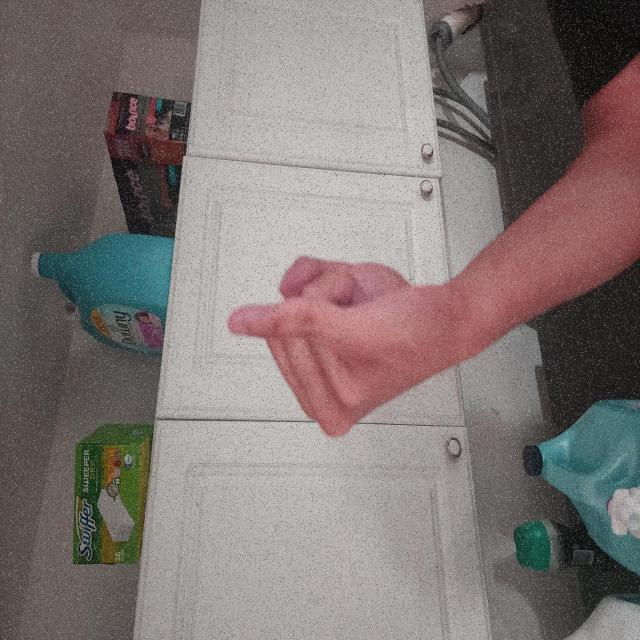I: (149, 294, 293, 588)
